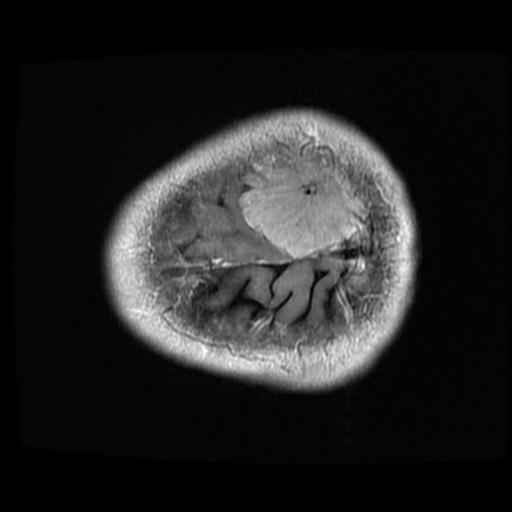meningioma: (238, 150, 367, 257)
